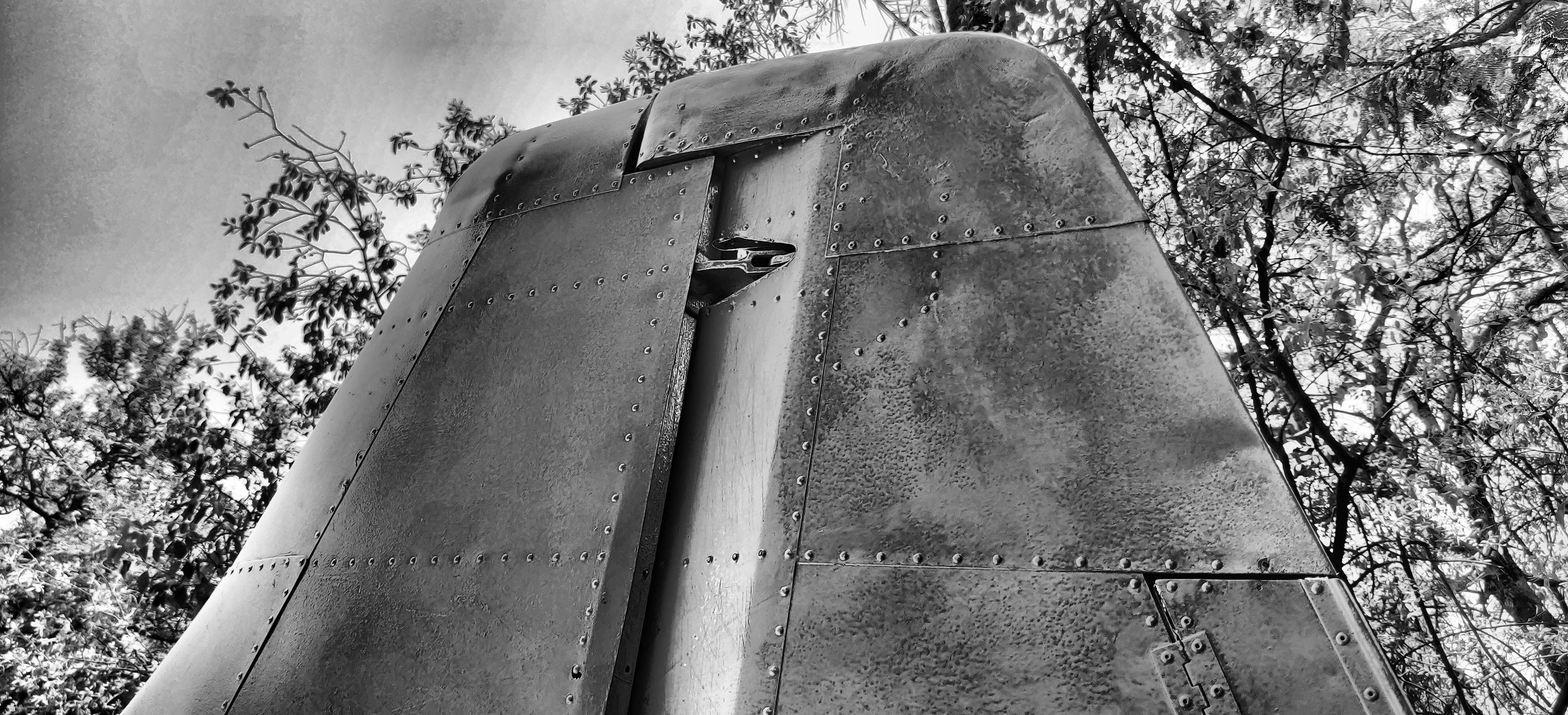dent: (800, 59, 844, 89), (451, 185, 490, 218), (701, 77, 732, 92), (824, 82, 844, 102)
missing-head: (1259, 558, 1271, 571), (532, 138, 538, 143)
scratch: (1024, 112, 1048, 125)
